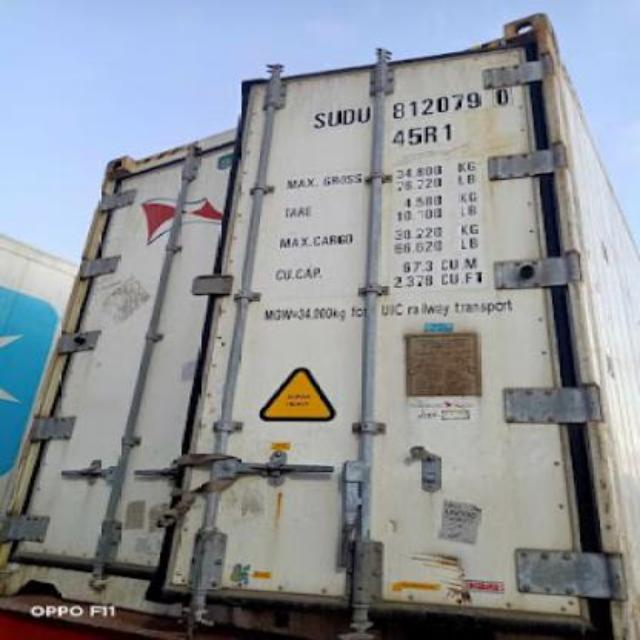0: (492, 85, 512, 109), (432, 92, 452, 115)
1: (406, 95, 419, 119)
2: (421, 92, 434, 116)
7: (448, 90, 464, 114)
8: (390, 99, 408, 123)
9: (464, 88, 484, 110)
D: (341, 98, 354, 134)
S: (308, 102, 328, 136)
U: (354, 99, 374, 129), (324, 102, 342, 132)
